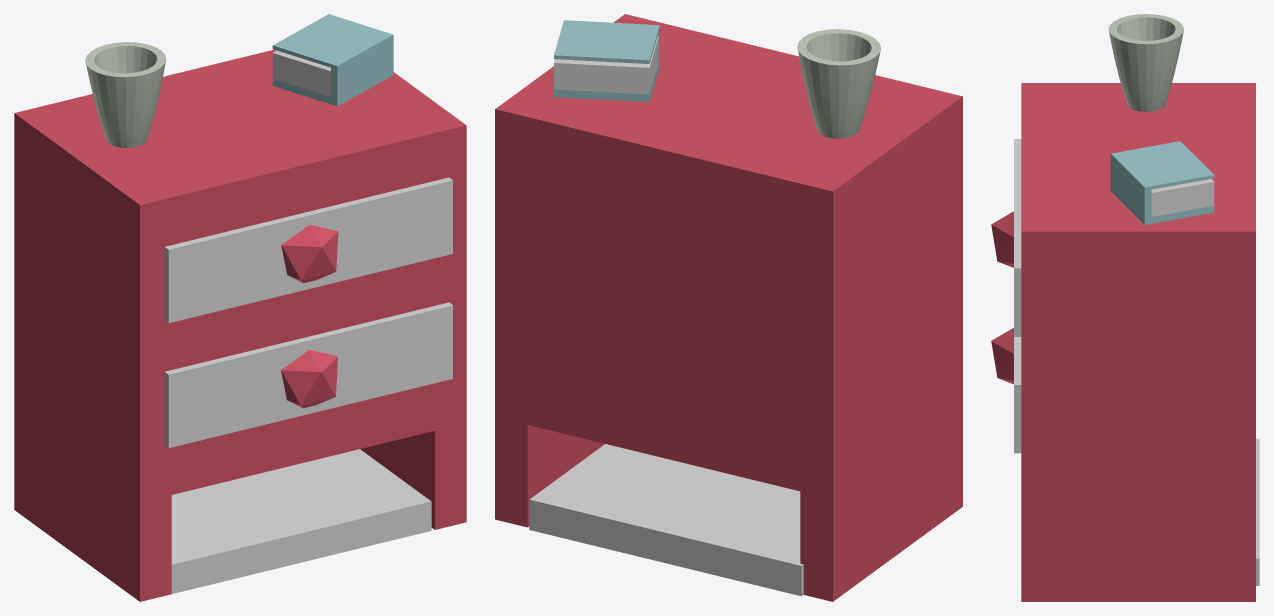
The model's file is Red Drawer.glb.
3 views of the same model, side by side, from view 1: azimuth 30°, elevation 25°; view 2: azimuth 150°, elevation 25°; view 3: azimuth 270°, elevation 25° (orthographic). The views are drawn at different scales.
Parts seen in each view (by area): view 1: Mesh_Mesh_head_geo.001_lambert2SG.001; view 2: Mesh_Mesh_head_geo.001_lambert2SG.001; view 3: Mesh_Mesh_head_geo.001_lambert2SG.001.
Boxes of the visible parts, x1,y1,x2,y2 form: Mesh_Mesh_head_geo.001_lambert2SG.001: [14, 14, 466, 601]; Mesh_Mesh_head_geo.001_lambert2SG.001: [495, 14, 962, 601]; Mesh_Mesh_head_geo.001_lambert2SG.001: [991, 14, 1259, 601].
Bounding box in the file's own units: 93 × 131 × 71.
